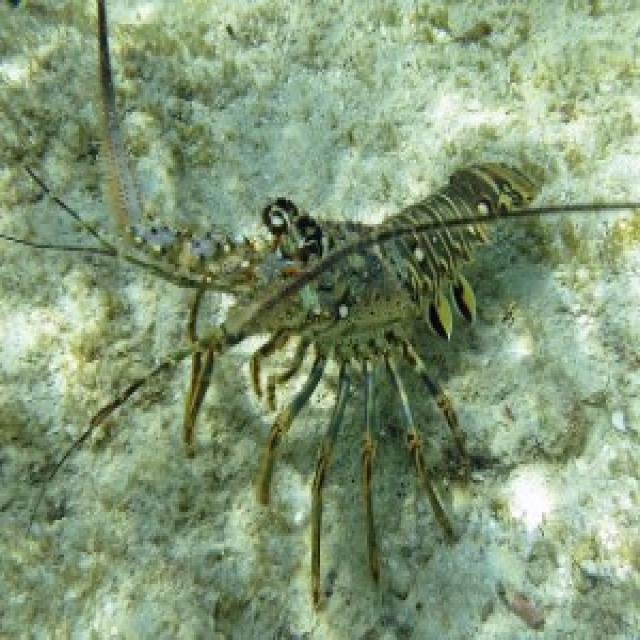lobsters: (49, 91, 640, 637)
